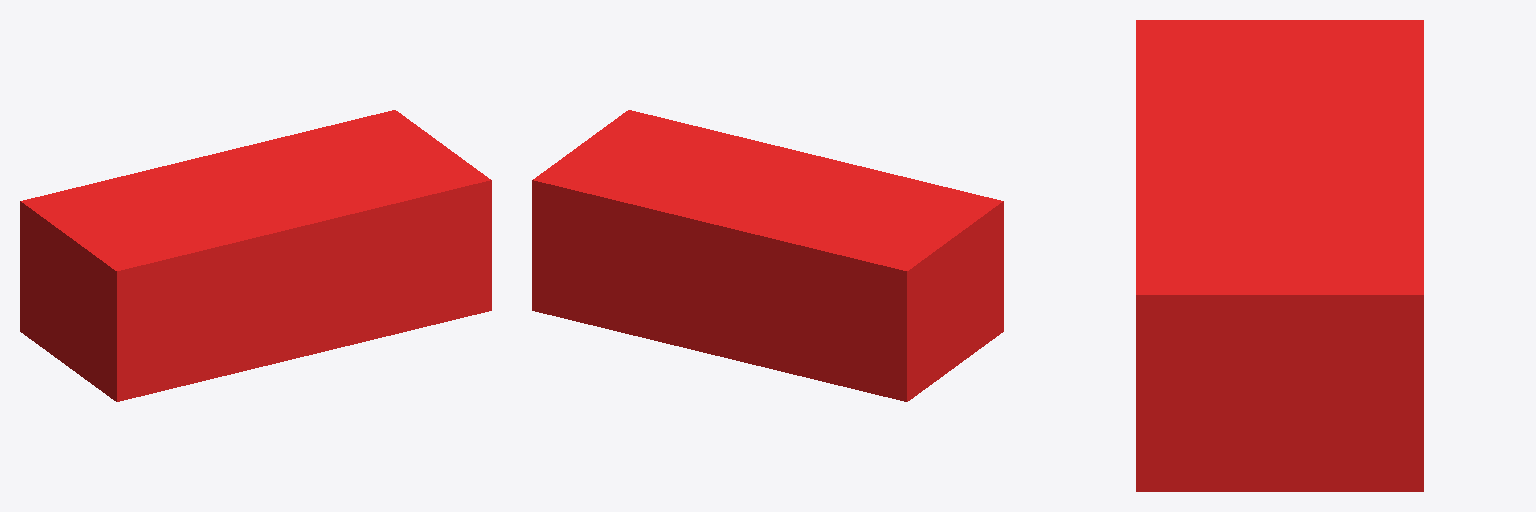
The robot description file, URDF, robot "BoxCar":
<?xml version="1.0"?>
<robot xmlns="http://drake.mit.edu"
       xmlns:xsi="http://www.w3.org/2001/XMLSchema-instance"
       xsi:schemaLocation="http://drake.mit.edu ../../../../doc/drakeURDF.xsd" name="BoxCar">

    <!-- A simple car model with three degrees of freedom: x, y, θ. This is,
    essentially a free body in SE(2). We emulate this floating joint.
    Drake only allows actuators to be applied to single-dof joints (see issue
     #4153).  So, we composite the three degrees of freedom as a hierarchy of
      joints.  The hierarchy looks like this:

    world -F-
      xtrans -Px-
        ytrans -Py-
          rot -Rx-
            Car

    The names refer to links and the "-X-" symbols represent one-dof joints
    between the parent body to its left and the child body below it. The value
    of X is one of:
       F: A fixed joint
       Pi: A prismatic joint along the world frame's axis i, i ∈ {x, y, z}
       Ri: A revolute joint along the world frame's axis i, i ∈ {x, y, z}

    The fixed joint is implied by how the URDF is added to the tree.  In all
    other cases, the joint of the body and the name of the body's parent are
    coordinated.
    -->
    <material name="red">
        <color rgba="1.0 0.2 0.2 1.0"/>
    </material>
    <link name="xtrans"/>
    <link name="ytrans"/>
    <link name="rot"/>
    <link name="car">
        <!-- arbitrary non-zero inertial properties -->
        <inertial>
            <mass value="50"/>
            <inertia ixx="50" ixy="0" ixz="0" iyy="100" iyz="0" izz="100"/>
        </inertial>
        <!-- the car's origin is around the "back" axle. At the zero
        configuration, the car length is aligned with the x-axis and forward is
        the +x direction.  -->
        <visual>
            <origin rpy="0 0 0" xyz="1.25 0 0.75"/>
            <geometry>
                <box size="4.5 2 1.5" />
            </geometry>
            <material name="red"/>
        </visual>
        <collision>
            <origin rpy="0 0 0" xyz="1.25 0 0.75"/>
            <geometry>
                <box size="4.5 2 1.5" />
            </geometry>
        </collision>
    </link>

    <joint name="xslide" type="prismatic">
        <origin rpy="0 0 0" xyz="0 0 0"/>
        <axis xyz="1 0 0"/>
        <parent link="xtrans"/>
        <child link="ytrans"/>
    </joint>
    <joint name="yslide" type="prismatic">
        <origin rpy="0 0 0" xyz="0 0 0"/>
        <axis xyz="0 1 0"/>
        <parent link="ytrans"/>
        <child link="rot"/>
    </joint>
    <joint name="thetaspin" type="revolute">
        <origin rpy="0 0 0" xyz="0 0 0"/>
        <axis xyz="0 0 1"/>
        <parent link="rot"/>
        <child link="car"/>
    </joint>
</robot>

--- Render facts (derived) ---
The picture shows the robot from 3 angles, left to right: view 1: azimuth 30°, elevation 25°; view 2: azimuth 150°, elevation 25°; view 3: azimuth 270°, elevation 25°; orthographic projection.
Model BoxCar with 4 links and 3 joints (1 revolute, 2 prismatic), rooted at xtrans, posed every joint at zero.
Links seen in each view (by area): view 1: car; view 2: car; view 3: car.
Boxes of the visible links, x1,y1,x2,y2 form: car: [20, 110, 491, 401]; car: [532, 110, 1003, 401]; car: [1136, 20, 1423, 491].
Bounding box of the posed robot: 4.5 × 2 × 1.5 m (x, y, z).
Geometry: primitives only (box / cylinder / sphere), no mesh files.
